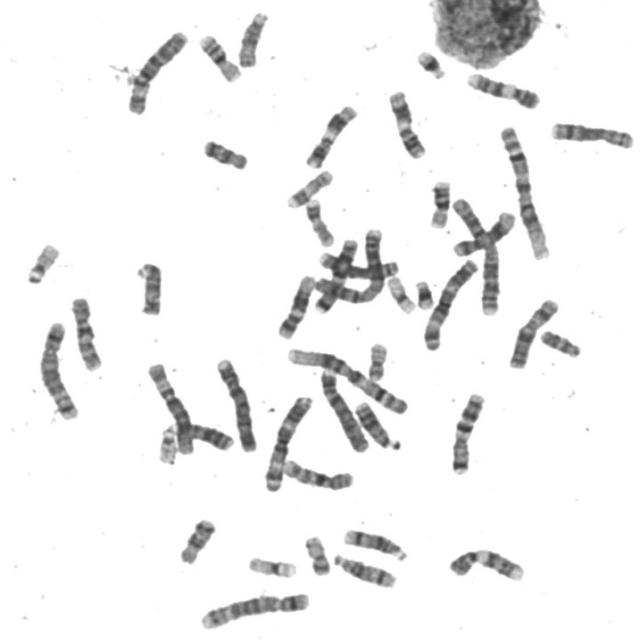A1: (282, 343, 412, 416), (496, 120, 554, 260)
A2: (446, 191, 504, 317), (308, 224, 391, 309)
A3: (420, 252, 482, 352), (260, 389, 316, 493)
B4: (212, 352, 262, 454), (316, 363, 372, 454)
B5: (196, 586, 314, 632), (36, 316, 83, 421)
C10: (66, 290, 107, 372), (278, 453, 358, 492)
C11: (302, 98, 362, 170), (385, 84, 430, 160)
C12: (449, 205, 519, 258), (273, 268, 318, 340)
C6: (122, 24, 192, 116), (142, 356, 199, 456)
C7: (309, 233, 362, 314), (447, 386, 489, 476)
C8: (546, 116, 638, 150), (313, 246, 403, 280)
C9: (444, 542, 530, 584), (462, 66, 544, 110)
D13: (351, 394, 404, 452), (167, 416, 238, 453)
D14: (328, 547, 401, 590), (340, 522, 412, 563)
D15: (234, 5, 272, 69), (131, 255, 166, 318)
E16: (194, 27, 246, 83), (425, 175, 454, 230)
E17: (283, 163, 336, 210), (303, 193, 338, 248)
E18: (175, 512, 220, 566), (199, 134, 252, 172)
F19: (244, 550, 302, 580), (384, 270, 419, 316)
F20: (301, 530, 334, 577), (363, 335, 391, 383)
G21: (412, 43, 451, 81), (412, 274, 438, 310)
G22: (22, 237, 64, 285), (154, 420, 180, 466)
X: (505, 292, 563, 370)
